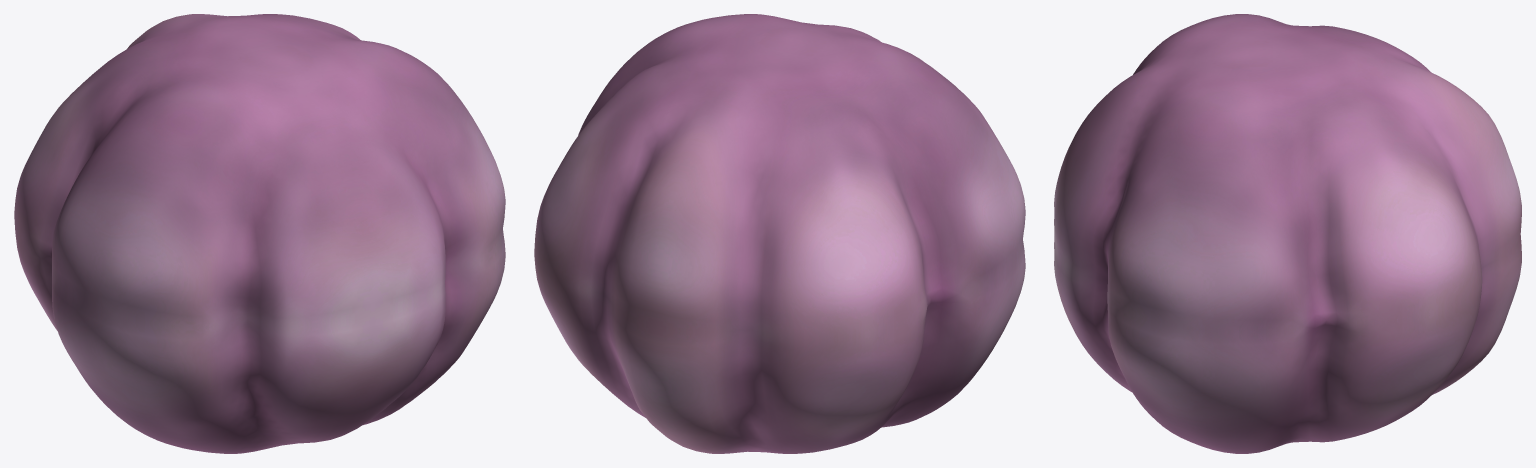
The model's file is M_dwxb.fbx.
3 views of the same model, side by side, from view 1: azimuth 30°, elevation 25°; view 2: azimuth 150°, elevation 25°; view 3: azimuth 270°, elevation 25° (orthographic).
Parts seen in each view (by area): view 1: XiBaoMo1, XiBaoMo; view 2: XiBaoMo1, XiBaoMo; view 3: XiBaoMo1, XiBaoMo.
Boxes of the visible parts, left/top/right/bottom form: XiBaoMo1: left=14, top=14, right=505, bottom=327; XiBaoMo: left=14, top=220, right=505, bottom=453; XiBaoMo1: left=534, top=14, right=1025, bottom=339; XiBaoMo: left=534, top=240, right=1025, bottom=453; XiBaoMo1: left=1054, top=14, right=1521, bottom=332; XiBaoMo: left=1054, top=235, right=1521, bottom=453.
Size of the model in its own units: 9.07 by 7.73 by 9.07.
